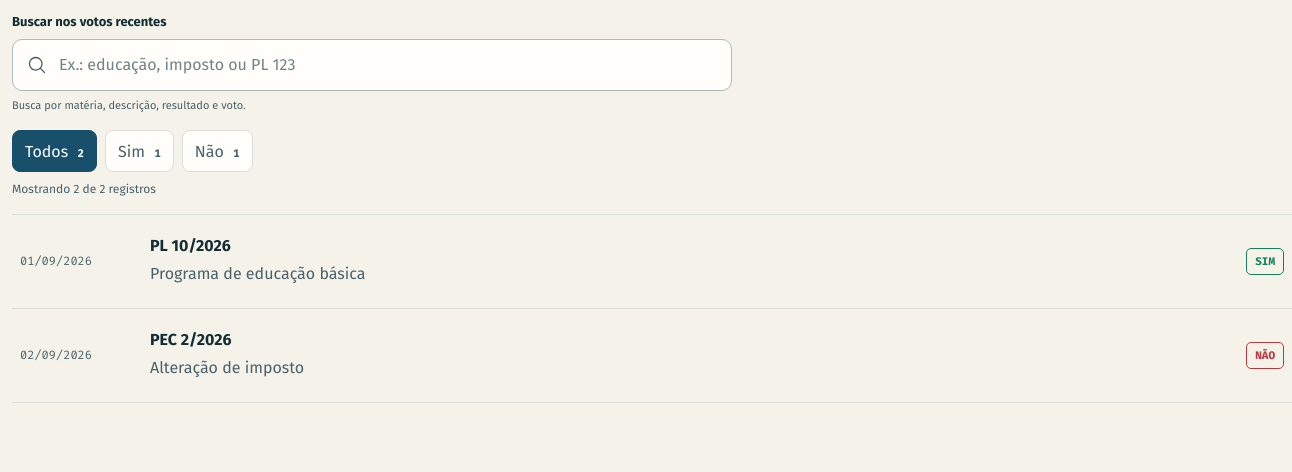
Test case: VoteTimeline › combines the keyword query with the vote-category filter
Type "educacao" into the search field labelled "Buscar nos votos recentes". click: (389, 65)
box: 47,40 -> 731,90
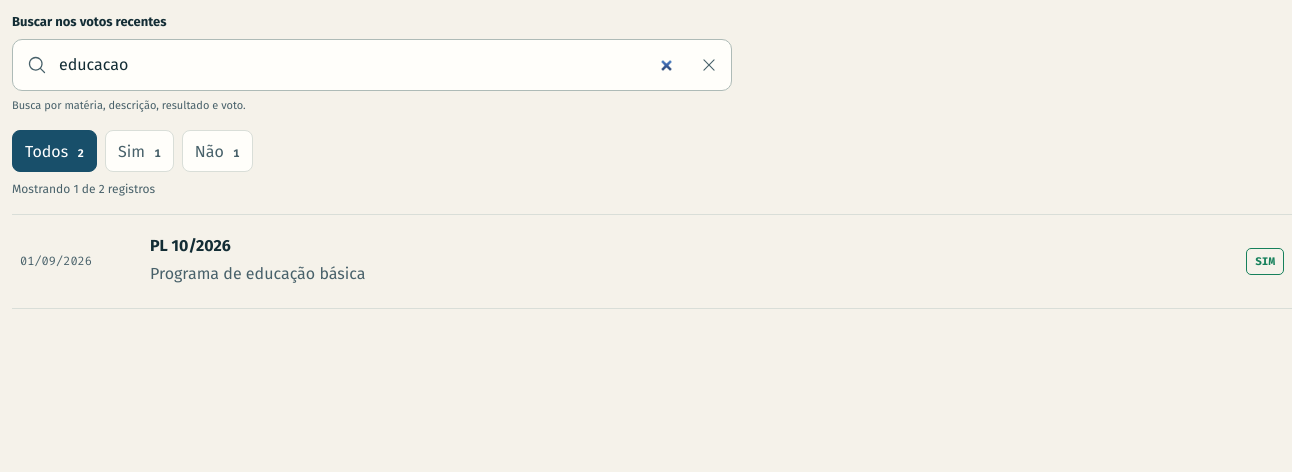
Click the button "Não 1". click: (217, 151)
box: 182,130 -> 253,172
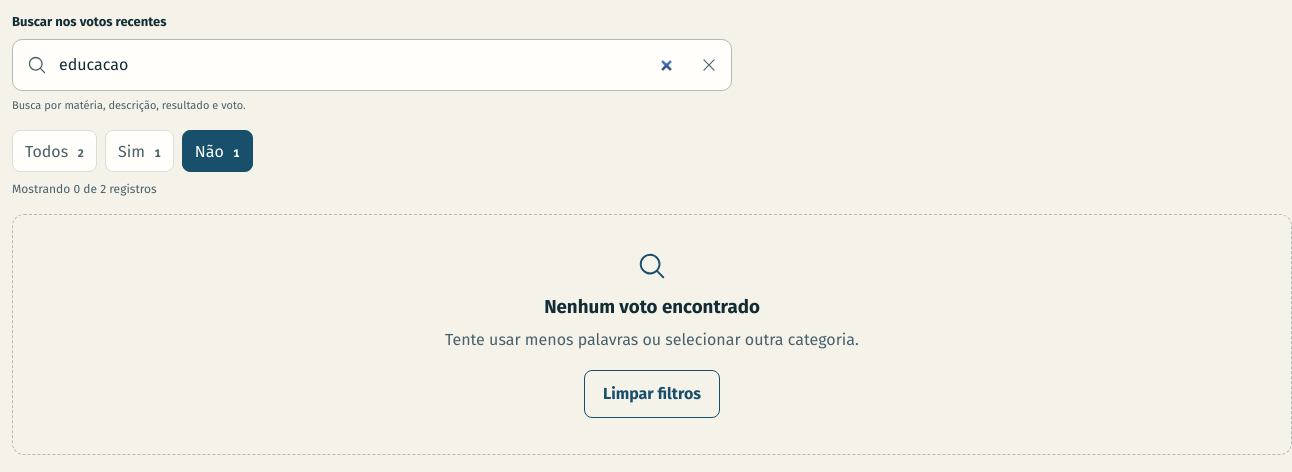
Now the heading "Nenhum voto encontrado" is shown, box 544,293 -> 760,322
Click the button "Limpar filtros". click: (652, 394)
box: 584,370 -> 720,418
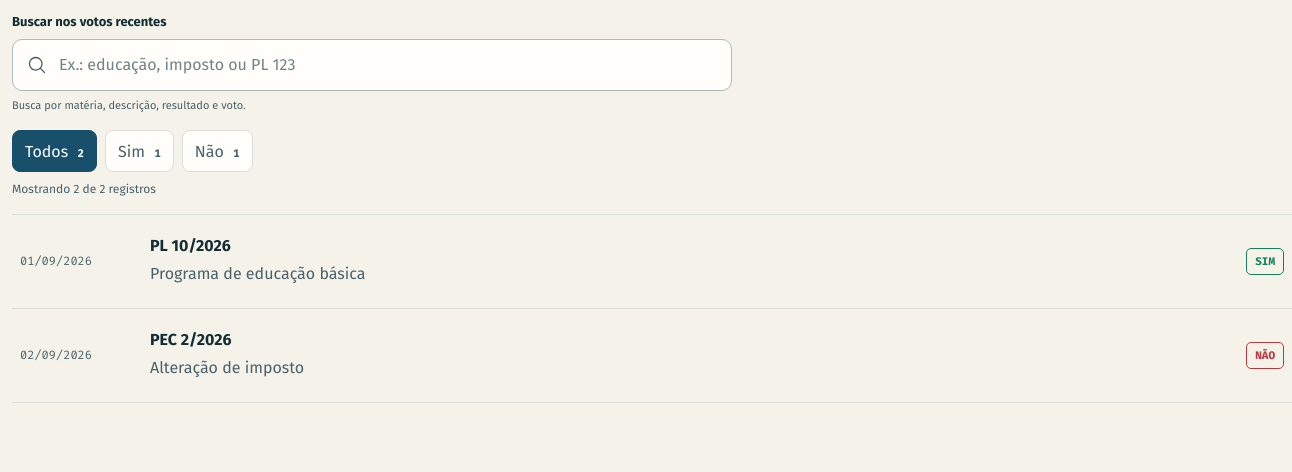
Now the text "Mostrando 2 de 2 registros" is shown, box 12,182 -> 156,196
